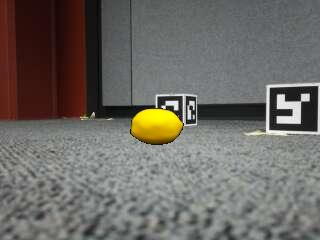lemon: (131, 109, 183, 145)
